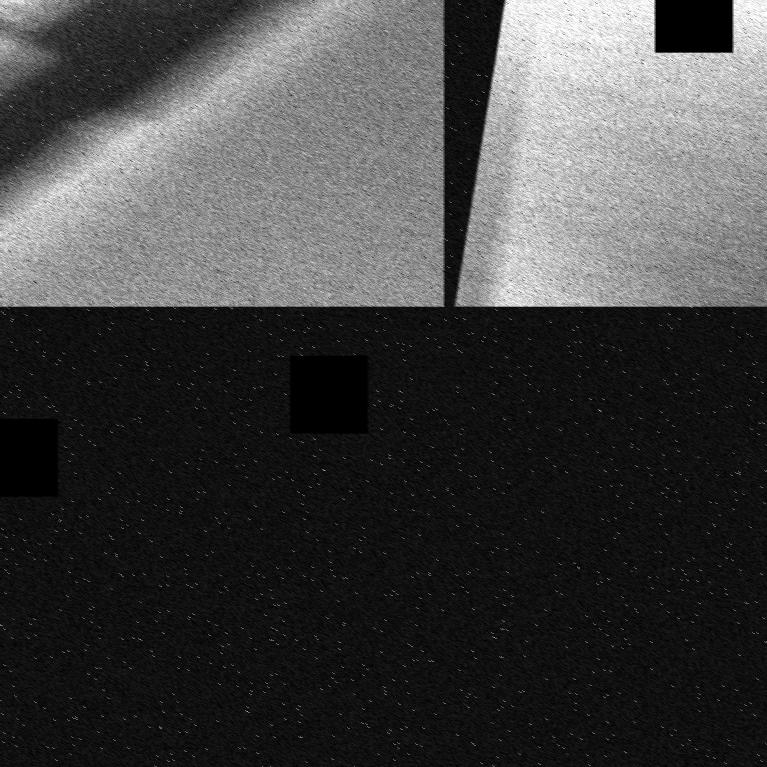Airbag: (0, 0, 444, 306), (463, 0, 767, 306)
